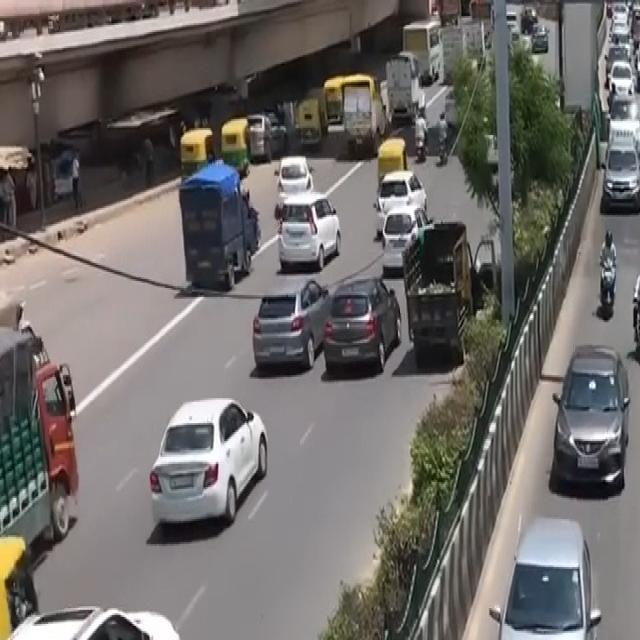car: (130, 382, 278, 551), (473, 498, 619, 640), (540, 329, 640, 510), (0, 581, 199, 640), (317, 265, 400, 382), (243, 276, 329, 382)
motorbike: (589, 237, 624, 326), (625, 270, 640, 372)
van: (0, 304, 95, 620), (617, 352, 640, 640)
